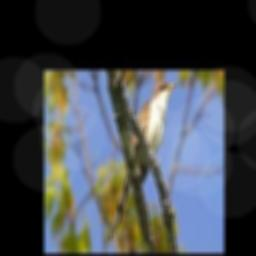Cuckoo: (110, 80, 178, 240)
